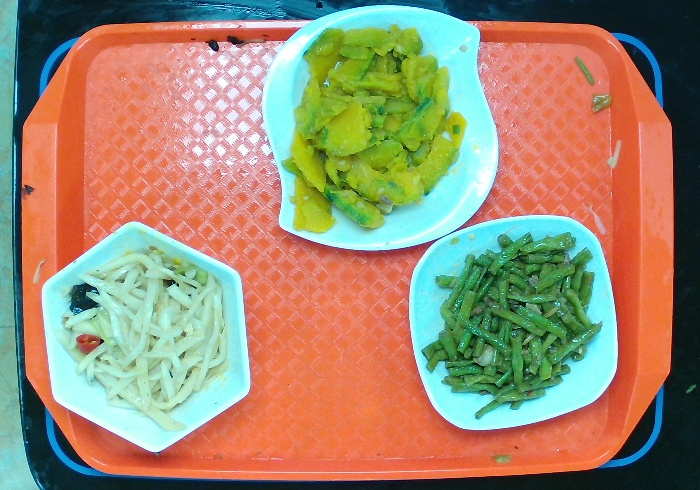RJxy-Liu_Jiao_Wan: (39, 224, 258, 455)
RJxy-Shuang_Jiao_Pan: (258, 6, 502, 250)
RJxy-Si_Fang_Wan: (403, 212, 627, 432)
